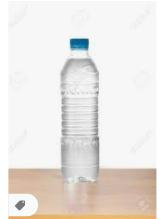plastic_bottle: (56, 35, 104, 184)
